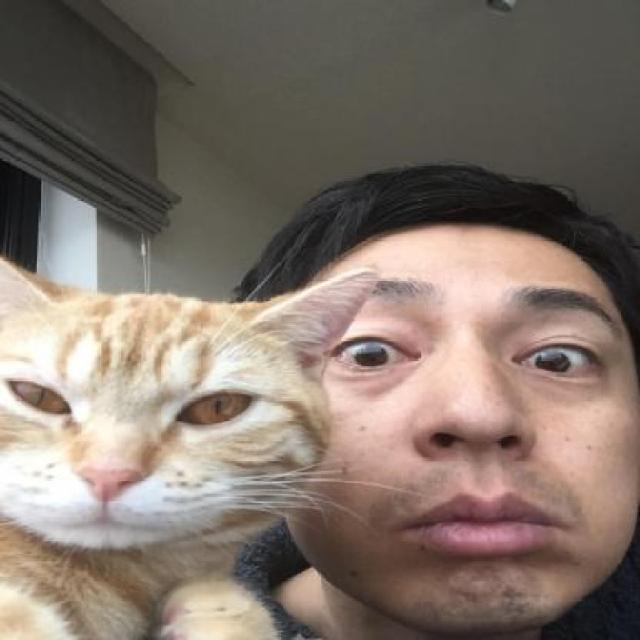cat: (2, 255, 386, 640)
